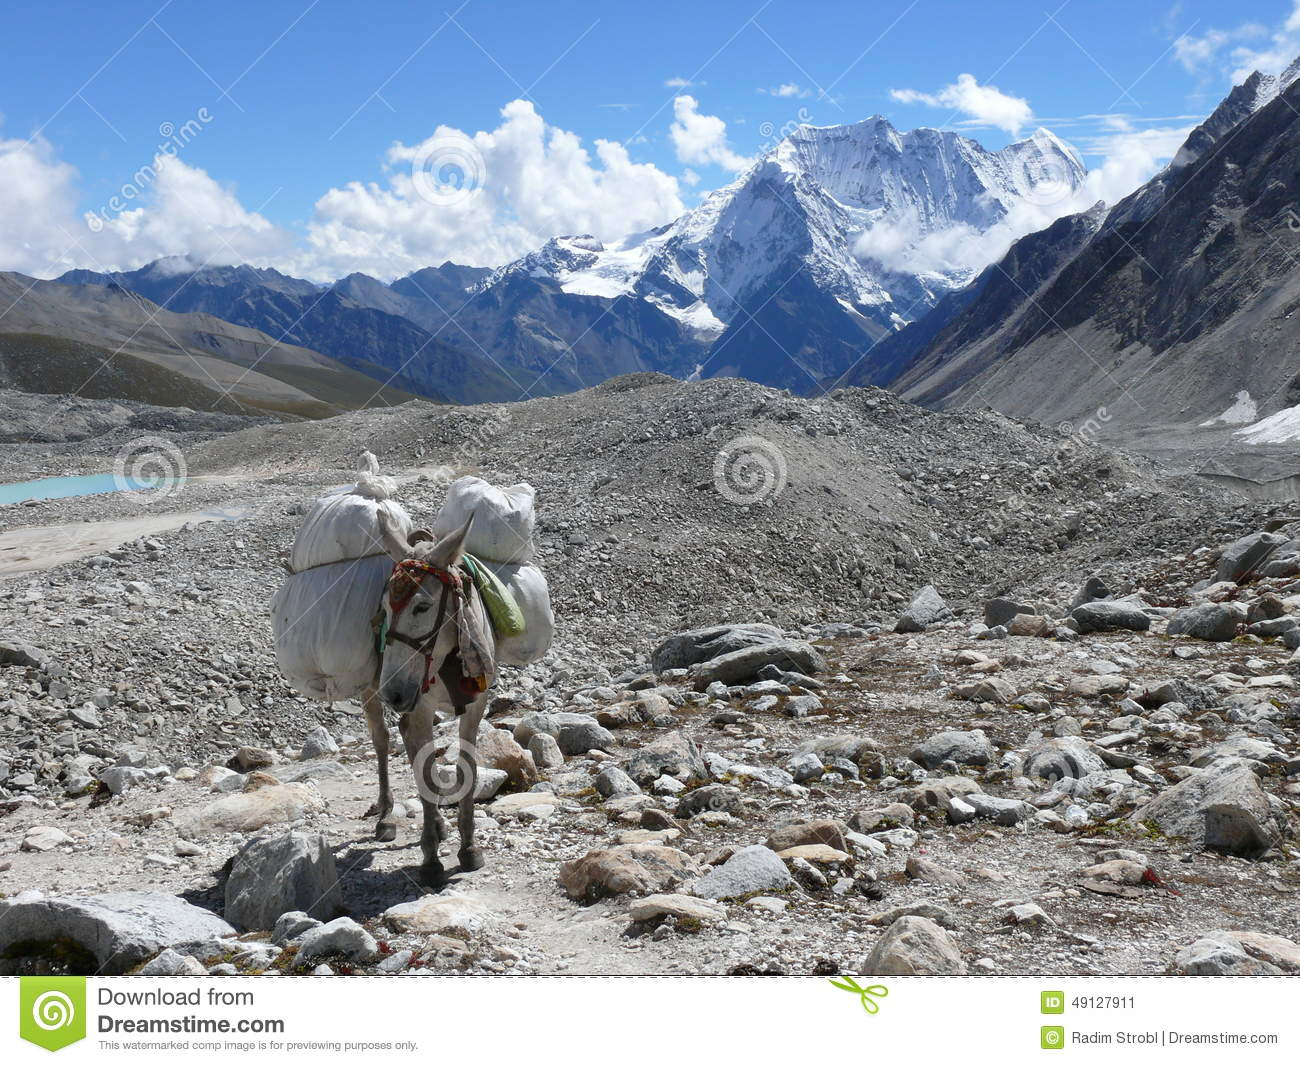equine: (325, 459, 559, 888)
